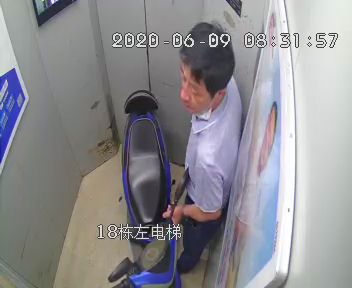Electric-bicycle: (108, 87, 191, 288)
